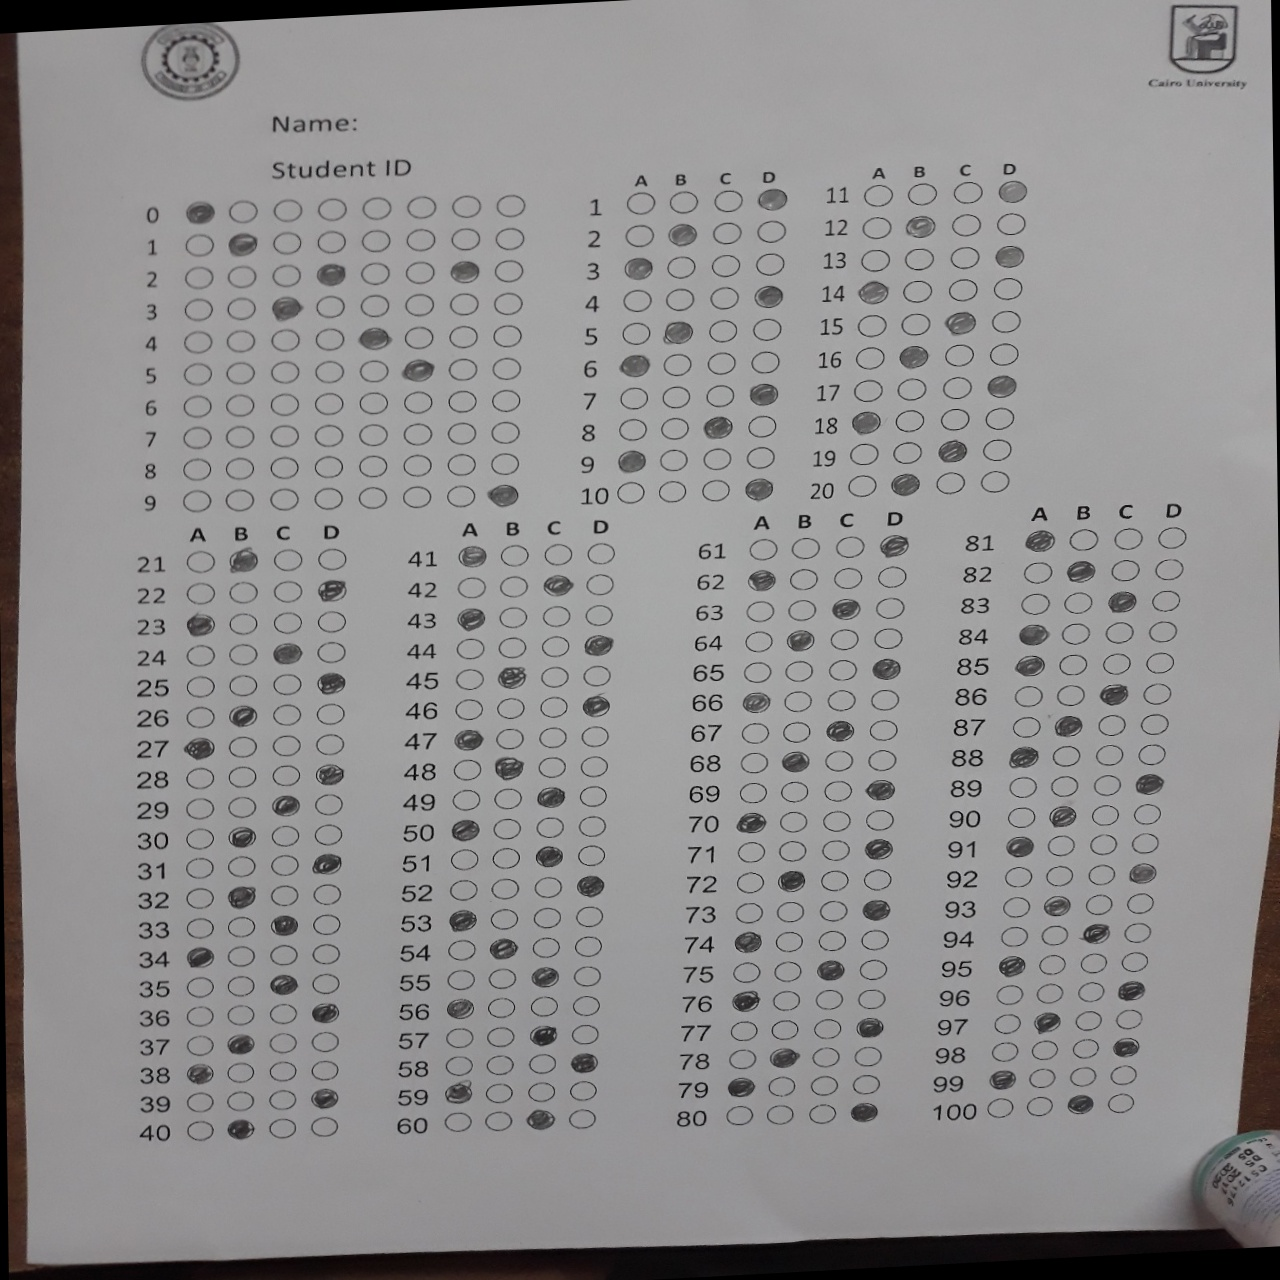not-c: (622, 222, 658, 248), (223, 486, 256, 515), (1061, 588, 1094, 617), (226, 197, 260, 224), (223, 263, 257, 290), (181, 328, 215, 355), (268, 326, 302, 353), (447, 355, 481, 382), (356, 358, 390, 384), (445, 418, 479, 445), (358, 483, 392, 510), (358, 421, 392, 448), (268, 358, 302, 384), (268, 392, 302, 418), (268, 454, 302, 481), (223, 423, 257, 450), (181, 486, 215, 513), (658, 447, 692, 474), (617, 384, 651, 411), (622, 287, 656, 314), (663, 286, 697, 313), (753, 219, 787, 246), (949, 178, 983, 205), (855, 343, 888, 370), (847, 441, 881, 468), (978, 467, 1012, 493), (1148, 586, 1182, 613), (1012, 682, 1046, 709), (1090, 770, 1124, 797), (998, 922, 1032, 949), (1034, 979, 1068, 1006), (1130, 799, 1162, 828), (315, 195, 348, 222), (316, 229, 349, 256), (360, 195, 393, 222), (449, 225, 482, 252), (450, 193, 483, 220), (182, 294, 215, 321), (224, 328, 257, 355), (312, 326, 345, 353), (359, 291, 392, 318), (445, 324, 478, 350), (491, 290, 524, 316), (492, 225, 525, 252), (492, 257, 525, 284), (490, 354, 523, 381), (445, 387, 478, 414), (400, 389, 433, 416), (488, 418, 520, 445), (401, 418, 434, 445), (400, 452, 433, 479), (489, 449, 522, 476), (402, 482, 435, 509), (358, 452, 390, 479), (312, 452, 345, 479), (270, 485, 302, 512), (223, 359, 256, 386), (183, 359, 216, 386), (182, 392, 215, 418), (699, 476, 731, 503), (699, 445, 731, 472), (658, 414, 690, 441), (659, 383, 692, 410), (749, 348, 782, 375), (707, 316, 740, 343), (709, 284, 742, 311), (754, 250, 787, 277), (712, 218, 744, 245), (710, 188, 743, 215), (862, 181, 894, 207), (904, 181, 937, 207), (995, 210, 1028, 237), (903, 246, 935, 273), (859, 246, 892, 273), (899, 277, 932, 304), (945, 275, 978, 302), (899, 311, 932, 338), (852, 377, 885, 404), (890, 440, 922, 467), (938, 406, 971, 433), (1111, 524, 1144, 551), (1060, 619, 1092, 646), (1148, 618, 1180, 645), (1143, 647, 1176, 674), (1053, 682, 1085, 709), (1094, 710, 1126, 737), (1136, 712, 1169, 738), (1135, 741, 1167, 768), (1089, 801, 1122, 828), (1005, 864, 1037, 891), (1076, 949, 1109, 976), (1036, 949, 1069, 976), (1000, 893, 1033, 920), (1074, 978, 1107, 1005), (1112, 1005, 1145, 1032), (406, 193, 440, 219), (271, 263, 305, 288), (182, 264, 216, 290), (493, 192, 527, 218), (312, 422, 346, 448), (181, 423, 215, 449), (744, 445, 778, 471), (859, 215, 893, 240), (990, 307, 1024, 333), (896, 375, 930, 401), (1088, 831, 1122, 857), (1085, 860, 1119, 886), (1039, 921, 1073, 947), (183, 230, 215, 257), (361, 227, 393, 254), (360, 260, 392, 287), (315, 292, 347, 319), (314, 358, 346, 384), (224, 392, 256, 418), (658, 476, 689, 503), (751, 316, 783, 343), (710, 252, 742, 279), (993, 275, 1024, 302), (1111, 556, 1143, 583), (1023, 558, 1055, 585), (1021, 590, 1053, 617), (1057, 651, 1089, 678), (1008, 772, 1040, 799), (1007, 805, 1039, 832), (1044, 863, 1076, 890), (1121, 948, 1152, 975), (271, 230, 304, 256), (272, 197, 305, 223), (404, 226, 437, 252), (404, 259, 437, 285), (403, 291, 436, 316), (449, 292, 482, 318), (358, 388, 390, 414), (312, 486, 345, 512), (268, 422, 301, 448), (224, 455, 257, 481), (181, 455, 213, 481), (615, 479, 648, 505), (617, 416, 649, 442), (704, 383, 737, 409), (621, 319, 654, 345), (665, 253, 697, 279), (949, 212, 982, 238), (856, 312, 888, 338), (988, 340, 1021, 366), (940, 374, 973, 400), (893, 407, 926, 433), (846, 474, 879, 499), (985, 404, 1017, 430), (980, 436, 1013, 462), (1065, 527, 1098, 553), (1155, 557, 1187, 583), (1101, 618, 1133, 644), (1101, 651, 1133, 676), (1139, 681, 1172, 707), (1095, 741, 1128, 767), (1049, 772, 1082, 798), (1128, 829, 1160, 855), (1122, 919, 1155, 945), (1046, 833, 1080, 858), (226, 295, 258, 321), (401, 324, 433, 349), (491, 324, 523, 349), (491, 387, 523, 413), (444, 451, 476, 477), (313, 392, 345, 417), (744, 414, 776, 440), (662, 352, 694, 377), (704, 350, 736, 376), (667, 189, 699, 215), (942, 341, 974, 367), (934, 469, 966, 495), (1157, 523, 1189, 549), (1012, 714, 1043, 740), (1049, 742, 1081, 768), (1084, 892, 1116, 918), (1124, 888, 1156, 914), (1073, 1008, 1104, 1034), (986, 1094, 1017, 1119), (727, 1047, 758, 1073), (482, 1080, 513, 1105), (533, 815, 565, 840), (493, 726, 525, 751), (270, 822, 301, 847), (625, 190, 658, 215), (1026, 1065, 1058, 1090), (481, 1108, 513, 1132), (309, 1028, 342, 1053), (817, 897, 847, 922), (454, 666, 484, 692), (272, 610, 302, 635), (272, 670, 302, 696), (268, 883, 299, 908), (184, 1032, 215, 1057), (444, 483, 476, 508), (948, 245, 980, 270), (765, 1075, 797, 1099), (441, 1109, 472, 1133), (445, 1024, 477, 1049), (486, 965, 518, 989), (448, 878, 479, 903), (490, 876, 522, 900), (536, 754, 567, 778), (493, 695, 525, 720), (537, 663, 568, 688), (454, 636, 485, 661), (496, 634, 527, 659), (496, 604, 527, 628), (584, 571, 615, 595), (542, 542, 573, 566), (316, 546, 348, 571), (271, 549, 302, 573), (225, 794, 257, 818), (312, 792, 343, 817), (311, 881, 342, 906), (309, 940, 341, 965), (225, 1060, 257, 1084), (568, 962, 601, 986), (858, 956, 887, 982), (778, 808, 808, 833), (445, 1051, 475, 1077), (990, 1039, 1021, 1063), (993, 1012, 1023, 1036), (856, 986, 886, 1010), (775, 899, 805, 924), (567, 1078, 598, 1103), (485, 1051, 516, 1076), (570, 1021, 600, 1046), (572, 993, 602, 1017), (530, 934, 560, 959), (572, 933, 602, 958), (531, 905, 561, 930), (531, 874, 561, 899), (576, 844, 606, 869), (490, 816, 520, 840), (493, 785, 524, 810), (452, 787, 483, 811), (454, 695, 484, 720), (586, 542, 617, 566), (457, 574, 488, 599), (229, 673, 259, 697), (226, 734, 257, 758), (271, 733, 301, 757), (271, 762, 301, 787), (313, 822, 343, 846), (184, 856, 215, 880), (227, 914, 258, 939), (309, 911, 340, 935), (226, 942, 257, 967), (267, 1029, 298, 1054), (309, 1057, 340, 1082), (267, 1058, 298, 1083), (307, 1114, 338, 1138), (995, 982, 1027, 1006), (1067, 1063, 1098, 1087), (1107, 1063, 1138, 1087), (1107, 1090, 1138, 1114), (808, 1073, 839, 1096), (806, 1101, 838, 1124), (445, 938, 477, 961), (449, 847, 481, 871), (576, 813, 607, 837), (452, 757, 484, 781), (498, 573, 530, 597), (315, 640, 347, 663), (226, 642, 258, 666), (271, 702, 302, 726), (183, 796, 215, 819), (311, 971, 342, 994), (226, 1089, 258, 1112), (764, 1103, 794, 1128), (853, 1043, 883, 1068), (774, 928, 803, 953), (859, 927, 888, 952), (819, 869, 849, 893), (821, 809, 850, 833), (866, 747, 896, 771), (741, 721, 770, 745), (828, 658, 857, 682), (742, 660, 771, 685), (873, 626, 903, 651), (790, 536, 819, 560), (574, 904, 604, 928), (229, 610, 258, 634), (227, 763, 257, 788), (226, 973, 256, 998), (267, 1088, 297, 1112), (1030, 1037, 1061, 1061), (1024, 1092, 1055, 1116), (851, 1071, 881, 1095), (723, 1103, 754, 1126), (864, 809, 894, 832), (738, 750, 769, 774), (824, 749, 855, 772), (874, 595, 905, 619), (877, 565, 907, 588), (788, 599, 818, 622), (745, 599, 776, 622), (835, 535, 865, 558), (567, 1107, 598, 1130), (527, 1051, 558, 1075), (484, 1024, 515, 1048), (538, 726, 568, 749), (580, 663, 611, 687), (542, 604, 572, 627), (584, 602, 614, 626), (272, 579, 302, 602), (184, 581, 215, 605), (184, 550, 215, 573), (316, 610, 347, 633), (184, 642, 215, 666), (185, 674, 216, 697), (315, 701, 346, 724), (184, 704, 215, 728), (268, 852, 299, 876), (184, 914, 215, 938), (268, 942, 299, 966), (267, 1001, 298, 1024), (185, 1089, 216, 1112), (265, 1117, 295, 1141), (184, 1118, 215, 1142), (821, 837, 849, 862), (738, 781, 767, 805), (869, 717, 897, 742), (1070, 1036, 1099, 1060), (730, 1019, 760, 1042), (772, 960, 802, 983), (733, 960, 762, 983), (818, 927, 847, 951), (734, 871, 763, 894), (777, 839, 806, 863), (736, 839, 765, 863), (779, 779, 809, 803), (782, 719, 811, 742), (783, 688, 812, 712), (870, 688, 899, 712), (784, 660, 813, 683), (829, 628, 858, 652), (790, 567, 819, 591), (749, 538, 778, 561), (525, 1080, 554, 1103), (486, 994, 516, 1017), (492, 845, 522, 869), (580, 753, 610, 776), (539, 694, 568, 717), (540, 634, 570, 658), (501, 543, 530, 566), (227, 580, 257, 604), (226, 853, 256, 877), (185, 974, 215, 998), (735, 901, 765, 924), (527, 995, 558, 1017), (447, 968, 477, 990), (488, 907, 518, 930), (578, 784, 608, 806), (580, 724, 611, 747), (313, 731, 343, 754), (184, 765, 215, 788), (184, 1005, 215, 1027), (224, 1003, 254, 1026), (815, 987, 843, 1010), (826, 688, 855, 712), (835, 565, 863, 588), (811, 1046, 840, 1068), (863, 867, 892, 890), (823, 779, 852, 802), (743, 629, 772, 652), (185, 826, 215, 849), (185, 886, 215, 908), (771, 1017, 799, 1040), (813, 1016, 842, 1039), (771, 989, 799, 1012)
taken-c: (314, 260, 347, 287), (496, 663, 527, 690), (452, 726, 484, 753), (779, 747, 811, 774), (945, 309, 976, 336), (751, 282, 783, 309), (613, 447, 646, 472), (270, 294, 302, 320), (456, 604, 486, 631), (1015, 651, 1046, 678), (530, 964, 561, 989), (847, 1099, 879, 1125), (830, 595, 862, 621), (1024, 529, 1056, 554), (1082, 920, 1114, 946), (986, 1065, 1017, 1091), (985, 373, 1016, 399), (622, 254, 654, 280), (662, 318, 694, 343), (619, 353, 651, 379), (748, 380, 779, 406), (488, 482, 519, 508), (401, 358, 433, 383), (358, 324, 389, 349), (450, 258, 482, 284), (226, 231, 258, 257), (186, 198, 218, 224), (666, 222, 699, 246), (583, 632, 612, 659), (533, 842, 563, 869), (855, 1013, 884, 1040), (995, 241, 1024, 268), (493, 755, 524, 781), (536, 784, 566, 810), (448, 906, 478, 932), (568, 1049, 599, 1075), (524, 1107, 554, 1132), (726, 1074, 756, 1099), (815, 956, 845, 982), (734, 930, 764, 955), (860, 897, 891, 922), (775, 869, 805, 894), (862, 836, 892, 862), (735, 809, 765, 835), (741, 688, 771, 714), (871, 654, 901, 680), (745, 567, 776, 593), (1019, 621, 1049, 647), (1099, 682, 1130, 708), (1053, 712, 1083, 737), (1132, 770, 1163, 796), (1005, 835, 1035, 860), (1041, 894, 1071, 920), (1116, 976, 1146, 1002), (891, 471, 921, 497), (937, 438, 967, 464), (851, 410, 881, 436), (899, 342, 930, 368), (858, 280, 888, 306), (906, 213, 937, 239), (701, 414, 731, 440), (877, 532, 908, 557), (580, 693, 610, 719), (574, 871, 604, 897), (445, 994, 475, 1020), (444, 1080, 474, 1105), (1107, 590, 1136, 615), (998, 952, 1027, 978), (998, 178, 1027, 204), (542, 573, 572, 598), (450, 816, 481, 840), (488, 937, 518, 961), (527, 1022, 558, 1047), (769, 1046, 799, 1070), (865, 776, 896, 801), (824, 717, 855, 742), (1008, 744, 1039, 769), (1047, 803, 1077, 828), (1126, 860, 1157, 885), (1110, 1034, 1141, 1058), (743, 477, 774, 502), (271, 640, 302, 663), (267, 972, 297, 996), (731, 987, 761, 1012), (785, 626, 815, 651), (1065, 558, 1095, 583), (1032, 1009, 1061, 1034), (757, 185, 787, 210), (309, 1000, 340, 1023), (270, 913, 300, 937), (311, 851, 341, 874), (313, 762, 343, 785), (268, 794, 300, 816), (309, 1085, 339, 1109), (185, 736, 215, 760), (457, 544, 486, 567), (225, 1032, 256, 1054), (184, 945, 215, 967), (316, 672, 347, 694), (316, 579, 347, 601), (227, 885, 256, 908), (227, 824, 256, 847), (226, 1118, 256, 1141), (185, 1062, 215, 1084), (227, 703, 257, 726), (229, 549, 258, 571), (186, 614, 215, 636), (1065, 1092, 1092, 1115)
